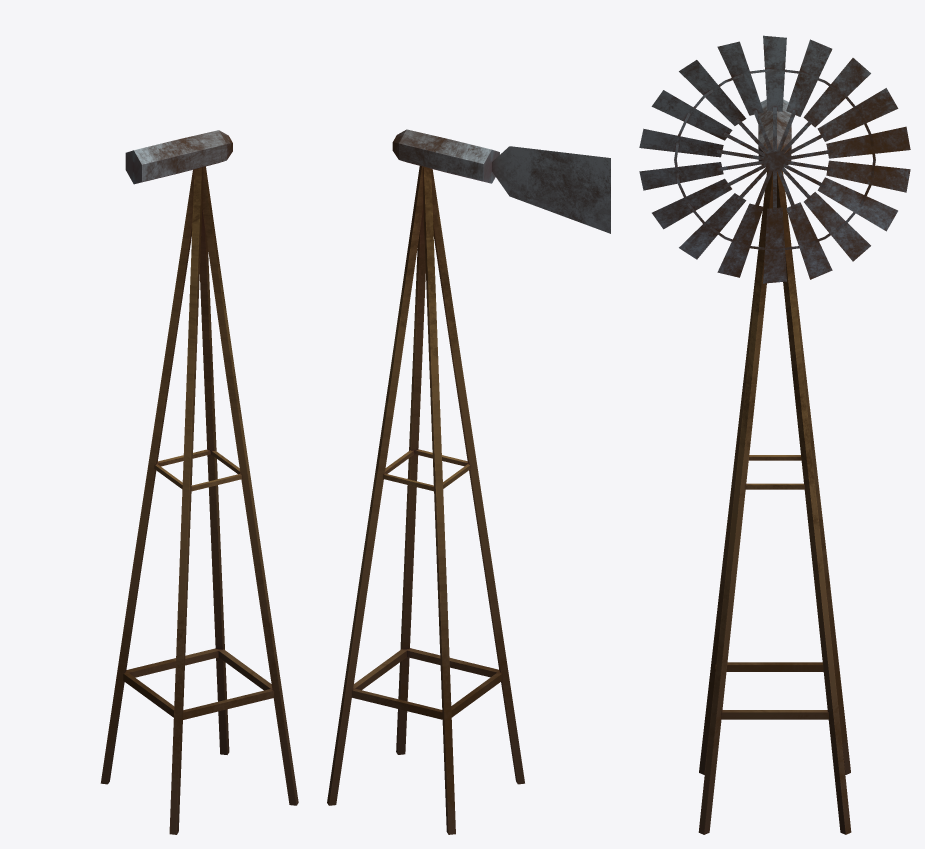
File: Windmill.glb
3 views of the same model, side by side, from view 1: azimuth 30°, elevation 25°; view 2: azimuth 150°, elevation 25°; view 3: azimuth 270°, elevation 25° (orthographic). The views are drawn at different scales.
Visible parts, largest first — view 1: Windmill; view 2: Windmill; view 3: Windmill.
Part boxes in pixels (x1,y1,x2,y2): Windmill: [100, 130, 298, 834]; Windmill: [327, 129, 610, 834]; Windmill: [639, 35, 910, 834].
Size of the model in its own units: 5.42 by 15.81 by 4.98.
Materials: 1 (1 with a texture image).
